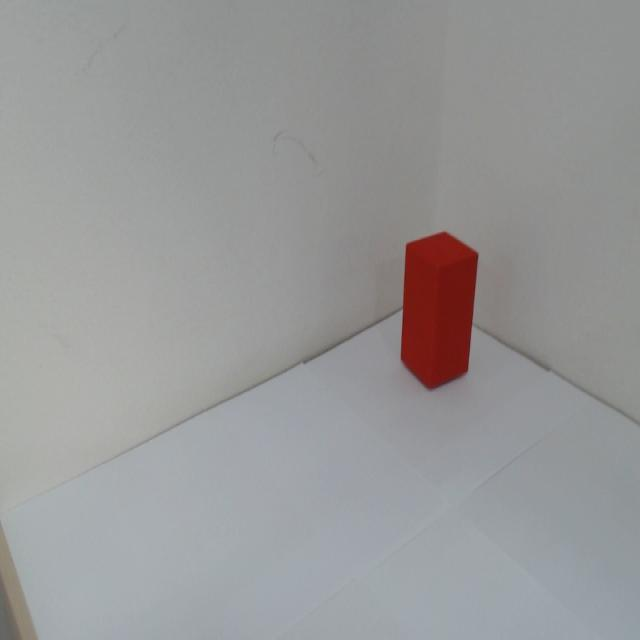cube: (394, 224, 483, 396)
